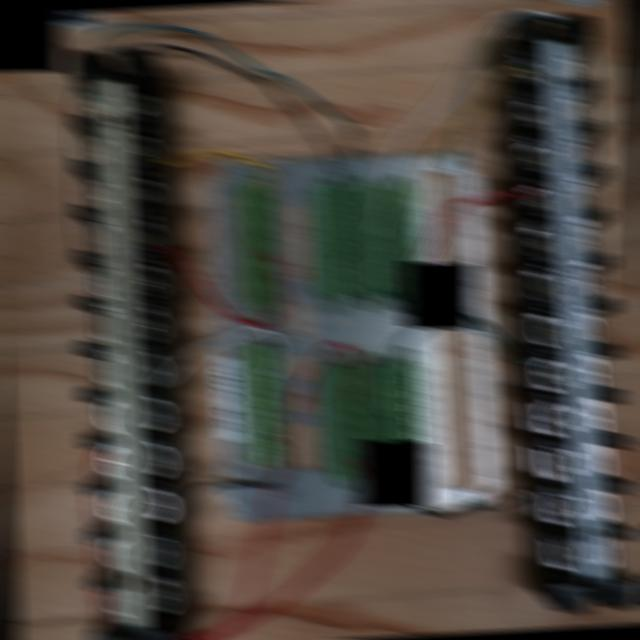Flathead_Block: (67, 50, 175, 640)
Phillips_Block: (514, 11, 640, 611)
Terminal_1: (243, 344, 284, 467), (238, 182, 276, 305)
Terminal_2: (358, 364, 396, 481), (385, 181, 423, 296), (323, 365, 360, 482), (349, 181, 386, 296), (313, 183, 349, 298)
